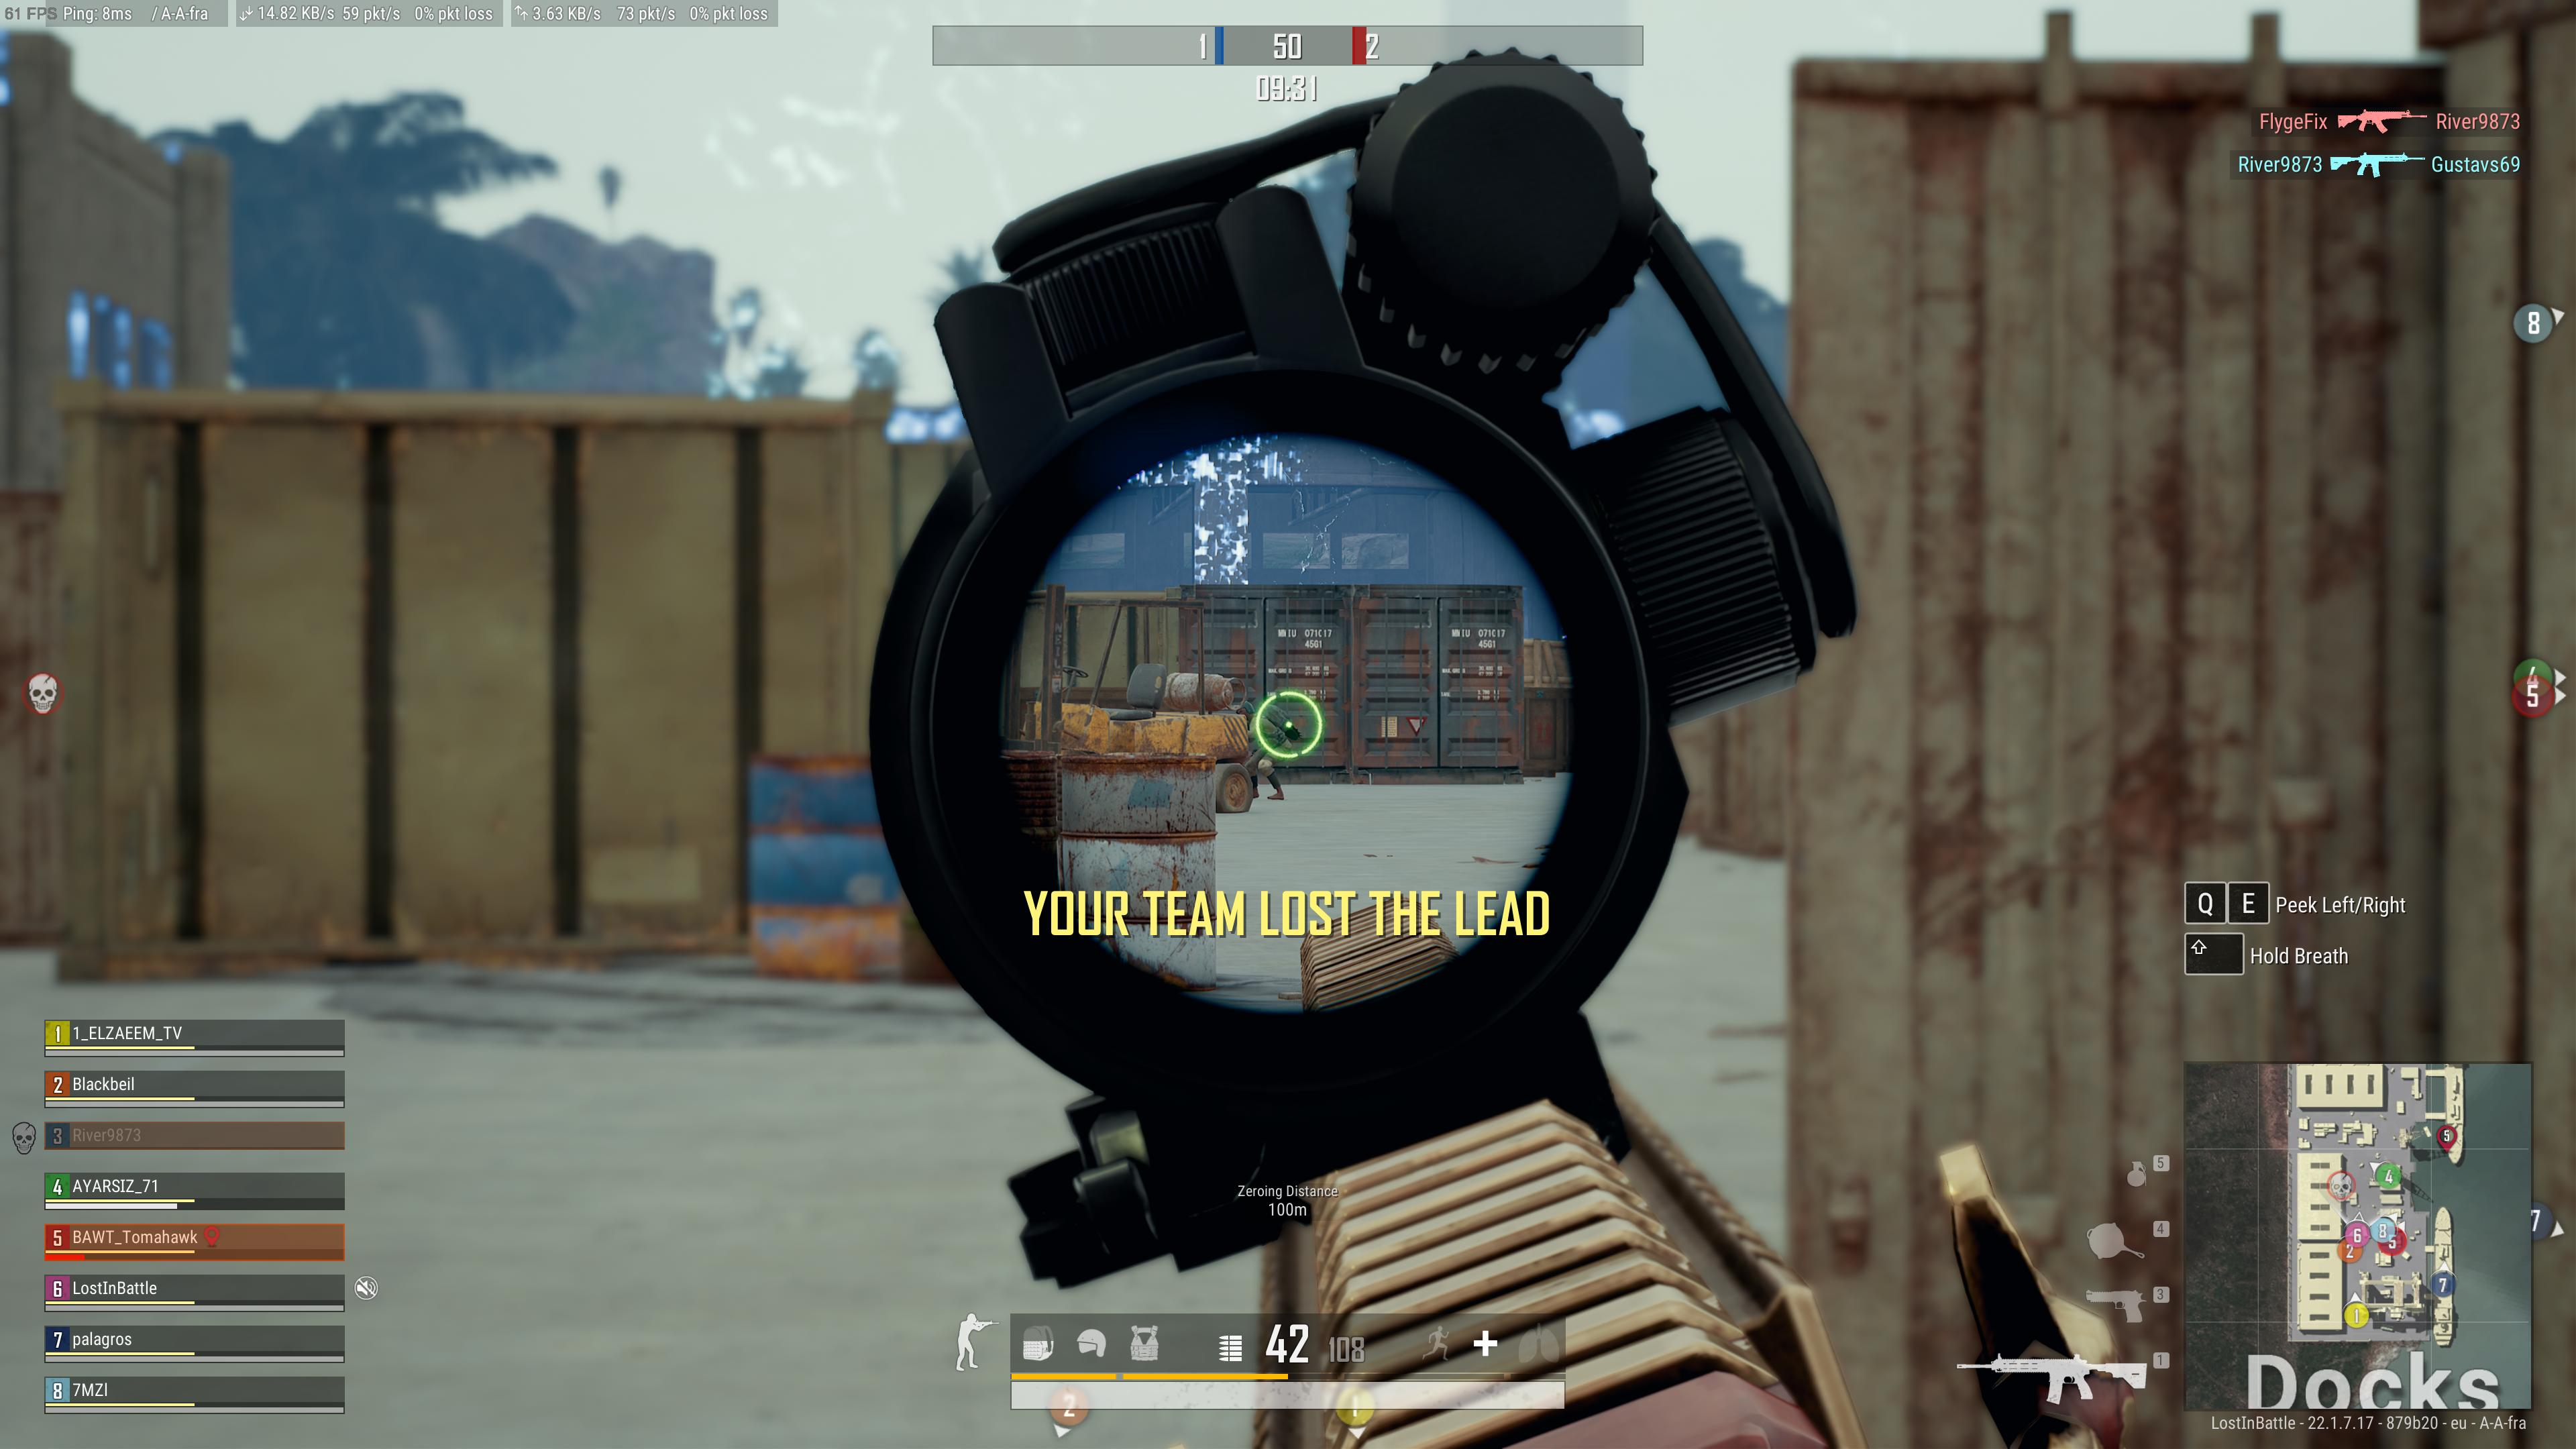enemy: (1246, 695, 1299, 800)
enemy_head: (1235, 701, 1253, 718)
